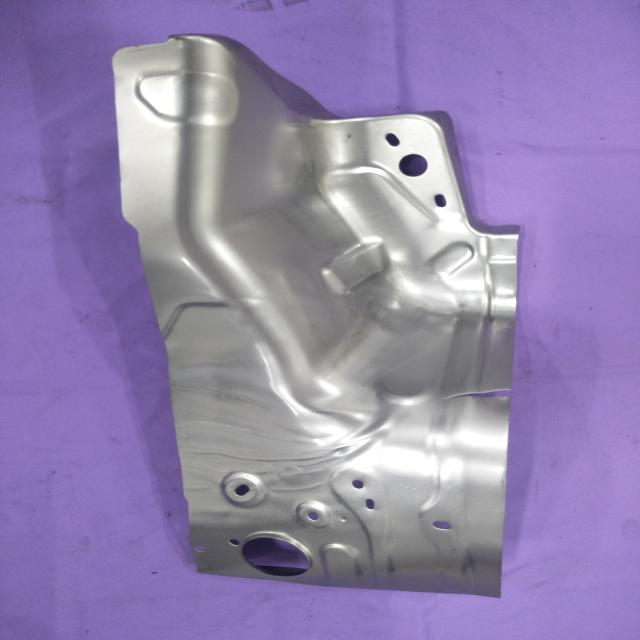Defect: (438, 374, 514, 414)
